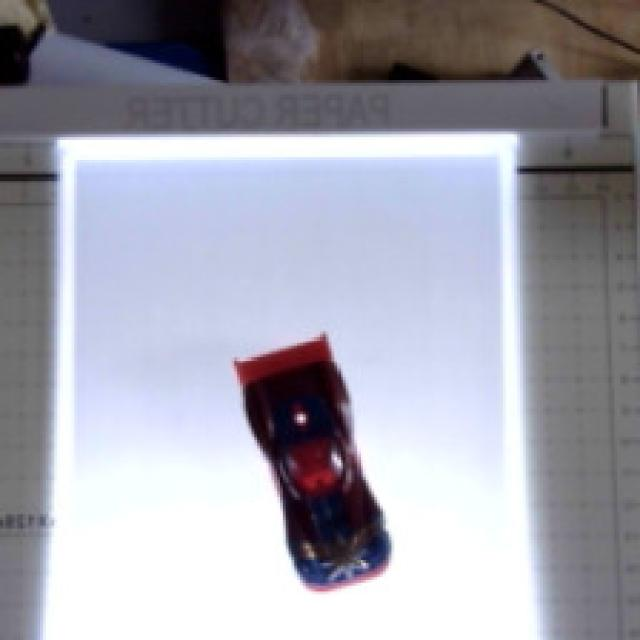Red Car: (200, 292, 429, 624)
